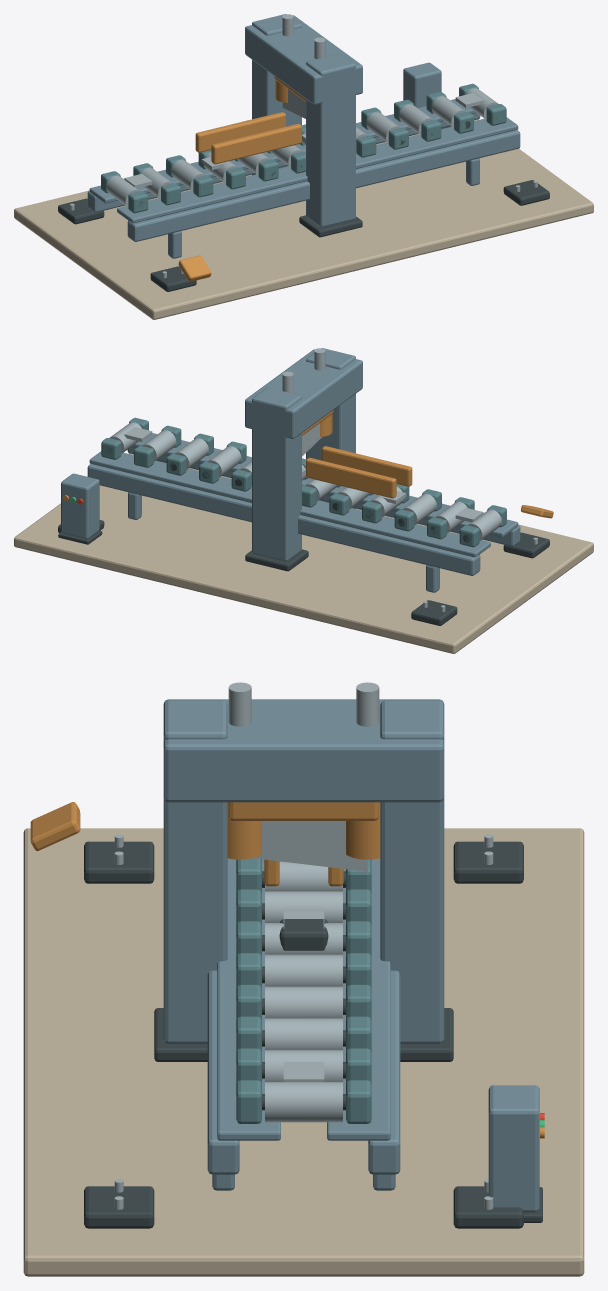
The model's file is CUT-BILLET-lod1.glb.
3 views of the same model, one above another, from view 1: azimuth 30°, elevation 25°; view 2: azimuth 150°, elevation 25°; view 3: azimuth 270°, elevation 25° (orthographic). The views are drawn at different scales.
Parts seen in each view (by area): view 1: foundation, shear_column_0.85, bed_side_0.63, hydraulic_bridge, bearing_seat_0.63, shear_column_-0.85, section_guide_1, section_guide_-1, control_cabinet, bearing_seat_-0.63, bed_side_-0.63, foot_3.2_1.45 (+12 smaller); view 2: foundation, shear_column_-0.85, bed_side_-0.63, hydraulic_bridge, bearing_seat_-0.63, control_cabinet, shear_column_0.85, section_guide_-1, section_guide_1, bearing_seat_0.63, bed_side_0.63, foot_-3.2_-1.45 (+8 smaller); view 3: foundation, hydraulic_bridge, shear_column_-0.85, shear_column_0.85, control_cabinet, bearing_seat_0.63, bearing_seat_-0.63, section_shear_blade, support_roll_11, bed_side_-0.63, bed_side_0.63, foot_3.2_1.45 (+35 smaller).
Part boxes in pixels (x1,y1,x2,y2): foundation: [14, 119, 593, 319]; shear_column_0.85: [306, 53, 355, 227]; bed_side_0.63: [127, 130, 520, 241]; hydraulic_bridge: [245, 15, 362, 104]; bearing_seat_0.63: [117, 117, 518, 223]; shear_column_-0.85: [252, 14, 301, 175]; section_guide_1: [211, 123, 301, 164]; section_guide_-1: [195, 112, 285, 152]; control_cabinet: [403, 62, 441, 107]; bearing_seat_-0.63: [89, 99, 476, 203]; bed_side_-0.63: [87, 113, 480, 212]; foot_3.2_1.45: [503, 180, 549, 205]; foundation: [14, 453, 593, 653]; shear_column_-0.85: [252, 387, 301, 561]; bed_side_-0.63: [87, 464, 480, 575]; hydraulic_bridge: [245, 349, 362, 438]; bearing_seat_-0.63: [89, 451, 490, 557]; control_cabinet: [61, 473, 99, 538]; shear_column_0.85: [306, 348, 355, 509]; section_guide_-1: [306, 457, 396, 498]; section_guide_1: [322, 446, 412, 486]; bearing_seat_0.63: [131, 433, 518, 537]; bed_side_0.63: [127, 447, 520, 546]; foot_-3.2_-1.45: [411, 600, 457, 625]; foundation: [23, 828, 584, 1276]; hydraulic_bridge: [163, 699, 444, 802]; shear_column_-0.85: [380, 700, 444, 1043]; shear_column_0.85: [163, 700, 227, 1043]; control_cabinet: [488, 1085, 539, 1212]; bearing_seat_0.63: [217, 858, 280, 1140]; bearing_seat_-0.63: [327, 858, 390, 1140]; section_shear_blade: [253, 821, 367, 871]; support_roll_11: [265, 1082, 342, 1122]; bed_side_-0.63: [368, 970, 400, 1174]; bed_side_0.63: [207, 970, 239, 1174]; foot_3.2_1.45: [84, 1186, 154, 1228].
Size of the model in its own units: 8 by 3.28 by 4.4.
